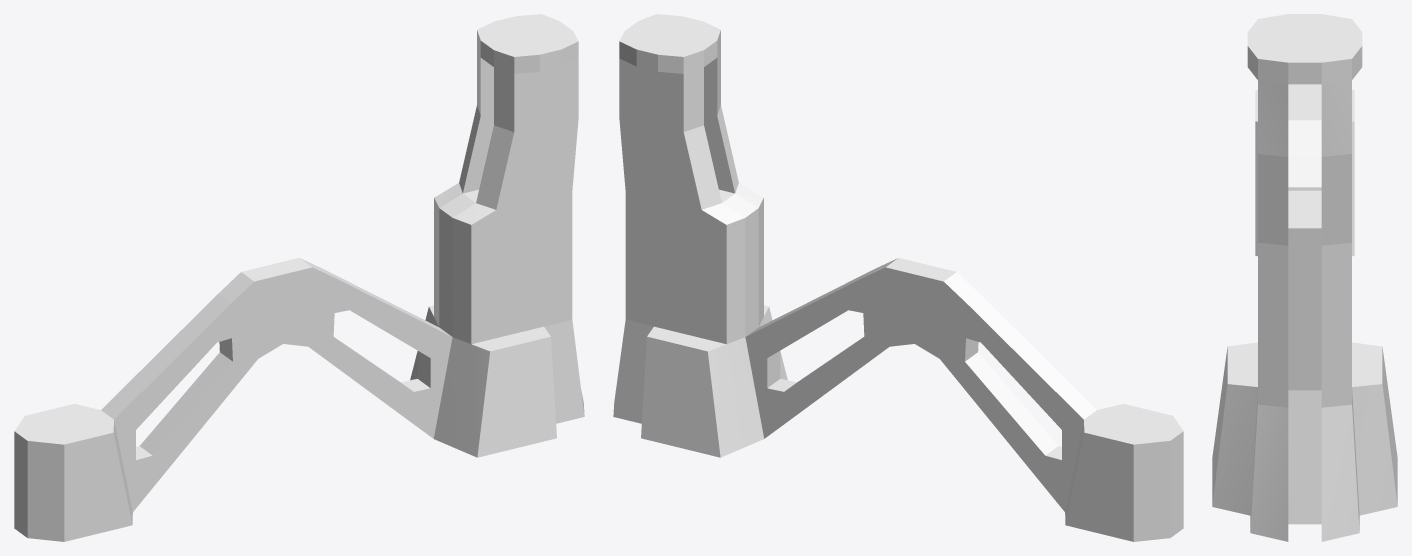
Rendered from stuetze2.obj.
3 views of the same model, side by side, from view 1: azimuth 30°, elevation 25°; view 2: azimuth 150°, elevation 25°; view 3: azimuth 270°, elevation 25° (orthographic). The views are drawn at different scales.
Parts seen in each view (by area): view 1: cube2_sep58; view 2: cube2_sep58; view 3: cube2_sep58.
Boxes of the visible parts, left/top/right/bottom form: cube2_sep58: left=14, top=14, right=584, bottom=541; cube2_sep58: left=613, top=14, right=1183, bottom=541; cube2_sep58: left=1212, top=14, right=1397, bottom=541.
Size of the model in its own units: 49.91 by 32.08 by 11.4.
Materials: 1 (1 with a texture image).
